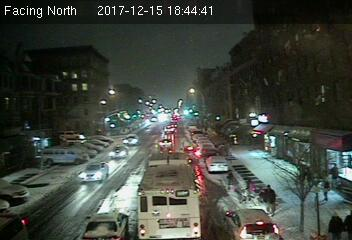bus: (137, 154, 201, 240)
car: (223, 208, 280, 238), (81, 211, 126, 240), (79, 162, 108, 181), (205, 155, 230, 173), (108, 146, 129, 157), (122, 133, 141, 145), (184, 146, 200, 160)
pedestrian: (327, 208, 344, 240), (263, 184, 279, 214)
